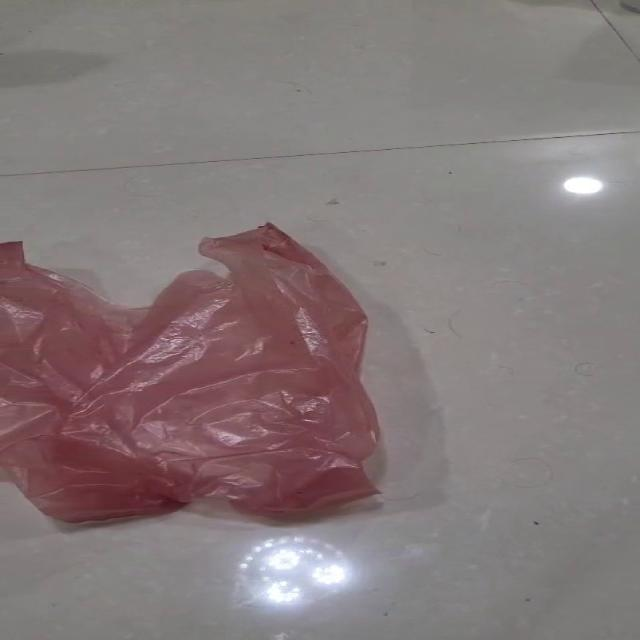plastic: (0, 221, 383, 524)
